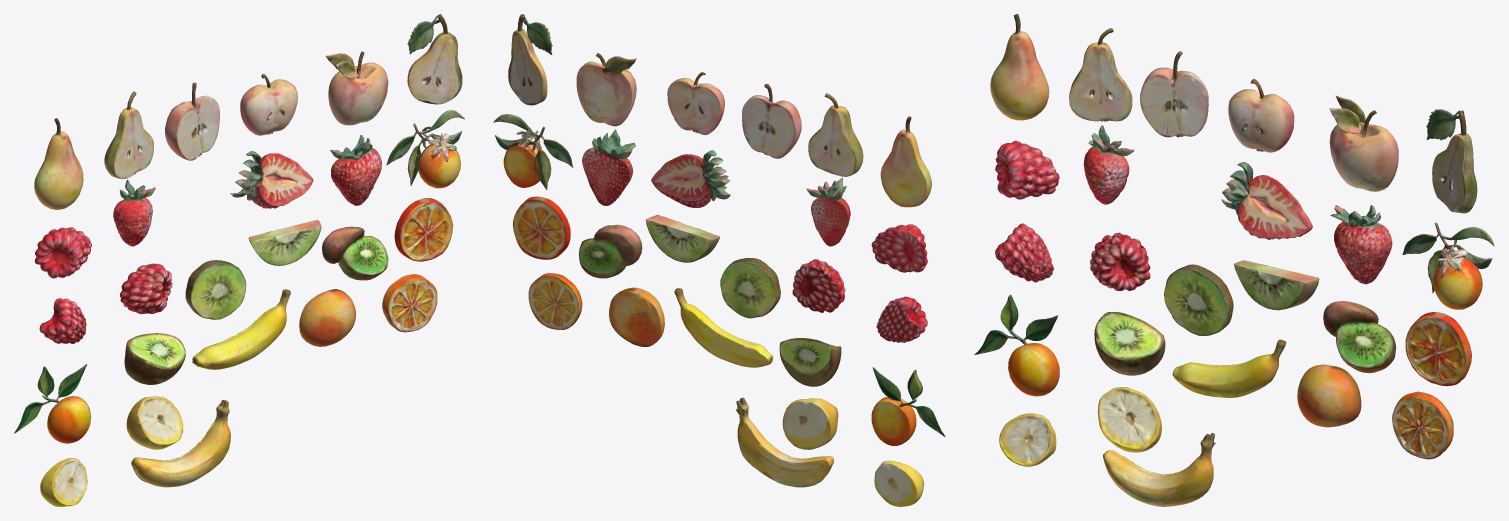
3 views of the same model, side by side, from view 1: azimuth 30°, elevation 25°; view 2: azimuth 150°, elevation 25°; view 3: azimuth 330°, elevation 25° (orthographic). The views are drawn at different scales.
Visible parts, largest first — view 1: Mesh 46, Mesh 31, Mesh 11, Mesh 16, Mesh 43, Mesh 44, Mesh 15, Mesh 1, Mesh 14, Mesh 13, Mesh 2, Mesh 9 (+13 smaller); view 2: Mesh 31, Mesh 11, Mesh 16, Mesh 13, Mesh 43, Mesh 44, Mesh 14, Mesh 1, Mesh 2, Mesh 6, Mesh 46, Mesh 15 (+13 smaller); view 3: Mesh 31, Mesh 16, Mesh 13, Mesh 11, Mesh 43, Mesh 44, Mesh 14, Mesh 2, Mesh 1, Mesh 46, Mesh 6, Mesh 29 (+13 smaller).
Boxes of the visible parts, x1=… form: Mesh 46: x1=407, y1=14, x2=462, y2=104; Mesh 31: x1=325, y1=51, x2=388, y2=125; Mesh 11: x1=131, y1=400, x2=230, y2=487; Mesh 16: x1=230, y1=151, x2=313, y2=208; Mesh 43: x1=386, y1=110, x2=464, y2=188; Mesh 44: x1=394, y1=198, x2=453, y2=261; Mesh 15: x1=192, y1=289, x2=290, y2=369; Mesh 1: x1=14, y1=364, x2=91, y2=443; Mesh 14: x1=185, y1=260, x2=246, y2=319; Mesh 13: x1=165, y1=82, x2=219, y2=160; Mesh 2: x1=34, y1=118, x2=83, y2=209; Mesh 9: x1=124, y1=333, x2=185, y2=384; Mesh 31: x1=576, y1=53, x2=636, y2=126; Mesh 11: x1=736, y1=397, x2=833, y2=487; Mesh 16: x1=651, y1=150, x2=730, y2=207; Mesh 13: x1=742, y1=84, x2=801, y2=158; Mesh 43: x1=493, y1=114, x2=573, y2=189; Mesh 44: x1=512, y1=196, x2=570, y2=259; Mesh 14: x1=720, y1=258, x2=780, y2=318; Mesh 1: x1=871, y1=367, x2=945, y2=445; Mesh 2: x1=880, y1=116, x2=931, y2=207; Mesh 6: x1=808, y1=93, x2=863, y2=176; Mesh 46: x1=508, y1=14, x2=552, y2=105; Mesh 15: x1=674, y1=288, x2=773, y2=367; Mesh 31: x1=1329, y1=95, x2=1398, y2=191; Mesh 16: x1=1221, y1=162, x2=1312, y2=239; Mesh 13: x1=1140, y1=51, x2=1208, y2=137; Mesh 11: x1=1103, y1=433, x2=1215, y2=506; Mesh 43: x1=1402, y1=222, x2=1494, y2=309; Mesh 44: x1=1405, y1=312, x2=1471, y2=386; Mesh 14: x1=1164, y1=264, x2=1233, y2=335; Mesh 2: x1=990, y1=14, x2=1049, y2=120; Mesh 1: x1=974, y1=295, x2=1059, y2=396; Mesh 46: x1=1426, y1=109, x2=1477, y2=213; Mesh 6: x1=1069, y1=28, x2=1132, y2=121; Mesh 29: x1=1323, y1=301, x2=1396, y2=373.
Size of the model in its own units: 1.9 by 1.63 by 0.1635.
Materials: 25 (25 with a texture image).
